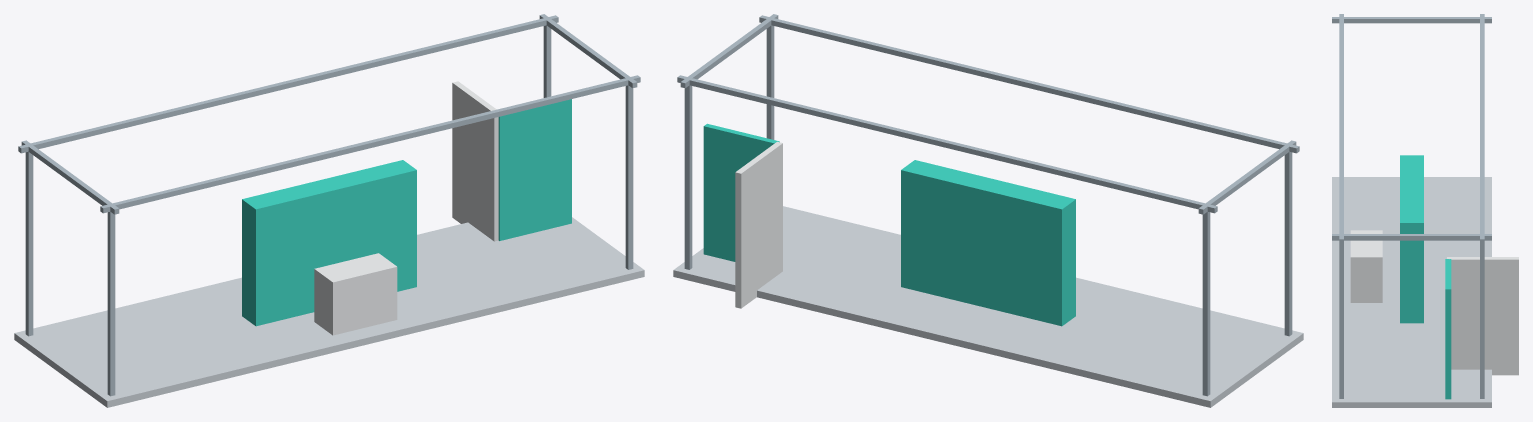
The picture shows the model from 3 angles, left to right: view 1: azimuth 30°, elevation 25°; view 2: azimuth 150°, elevation 25°; view 3: azimuth 270°, elevation 25°; orthographic projection. The views are drawn at different scales.
Parts seen in each view (by area): view 1: Exhibition Booth Concept; view 2: Exhibition Booth Concept; view 3: Exhibition Booth Concept.
Boxes of the visible parts, x1,y1,x2,y2 form: Exhibition Booth Concept: [14, 14, 644, 407]; Exhibition Booth Concept: [673, 14, 1303, 407]; Exhibition Booth Concept: [1332, 14, 1518, 407].
Size of the model in its own units: 10 by 3.49 by 3.51.
